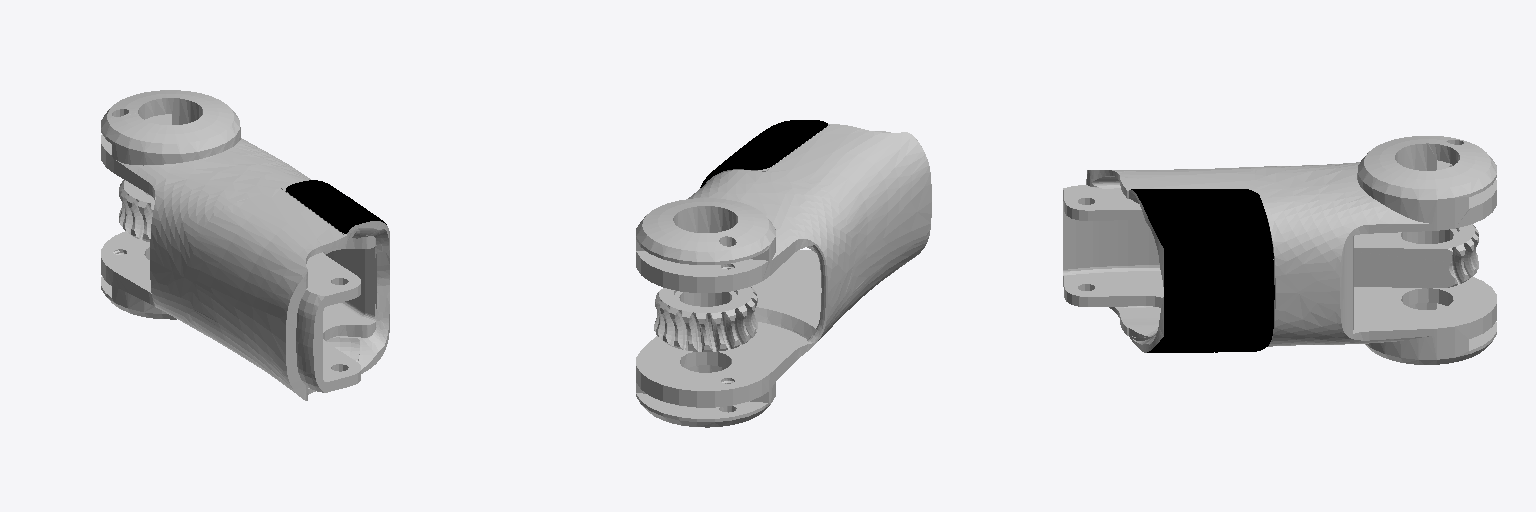
Rendered from thumb_4.obj.
3 renders of one model, left to right at view 1: azimuth 30°, elevation 25°; view 2: azimuth 150°, elevation 25°; view 3: azimuth 270°, elevation 25°, orthographic.
Visible parts, largest first — view 1: thumb_proximal; view 2: thumb_proximal; view 3: thumb_proximal.
Boxes of the visible parts, x1,y1,x2,y2 form: thumb_proximal: [101, 90, 389, 400]; thumb_proximal: [636, 120, 931, 427]; thumb_proximal: [1063, 136, 1496, 364].
Bounding box in the file's own units: 0.0218 × 0.0233 × 0.0493.